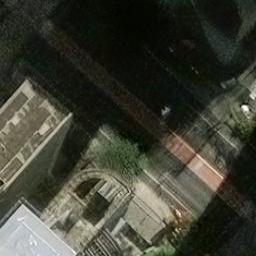heliponto: (0, 222, 59, 255)
